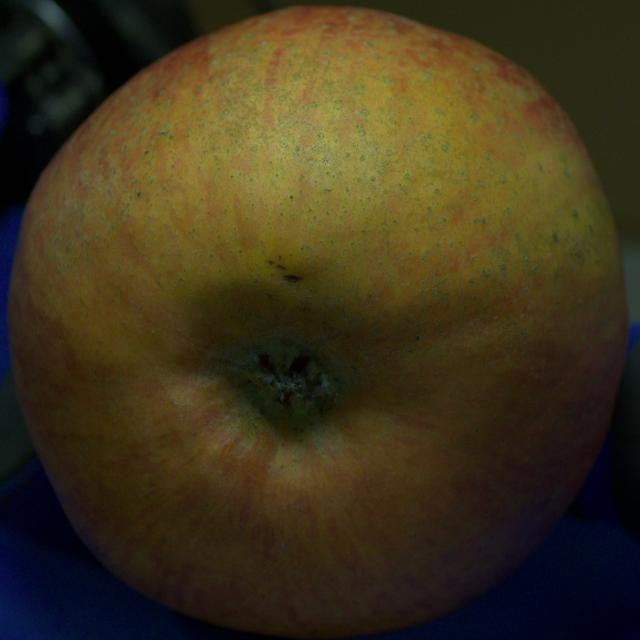apple: (8, 8, 626, 638)
pest: (283, 275, 301, 282), (276, 265, 286, 269)
